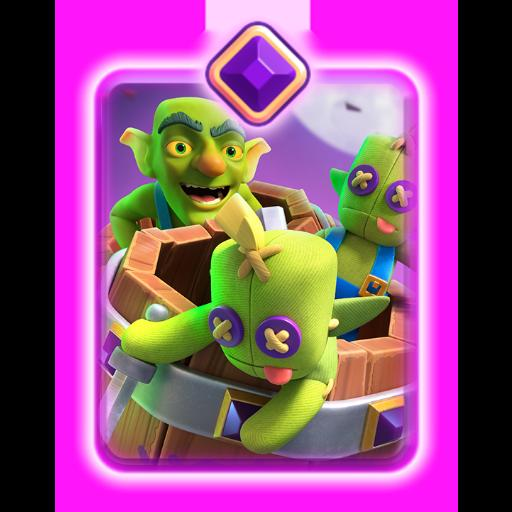goblin-barrel-evo: (106, 80, 404, 458)
